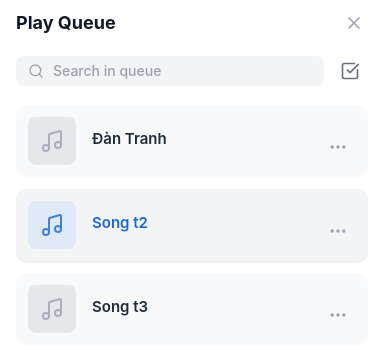
Test: QueuePanel content › search 'dan' match 'Đàn…' (normalize đ→d)
This screenshot has width=385, height=350.
Type "dan" into the field with placeholder "Search in queue".
click(170, 71); type("dan")  # box [16, 56, 324, 86]
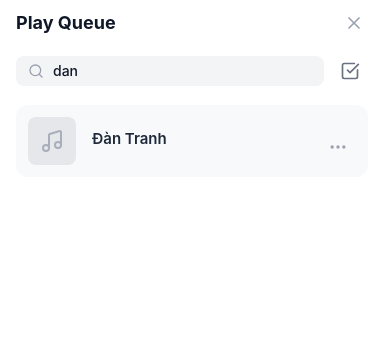
Expected: the heading "Đàn Tranh" is shown, [92, 130, 167, 148]
Expected: the number of cells with test id "queue-row" is 1, [16, 105, 368, 189]
